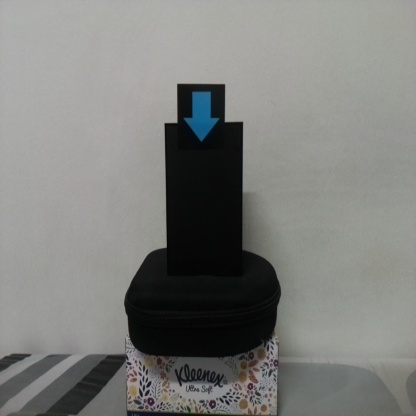id_2: (177, 84, 226, 151)
